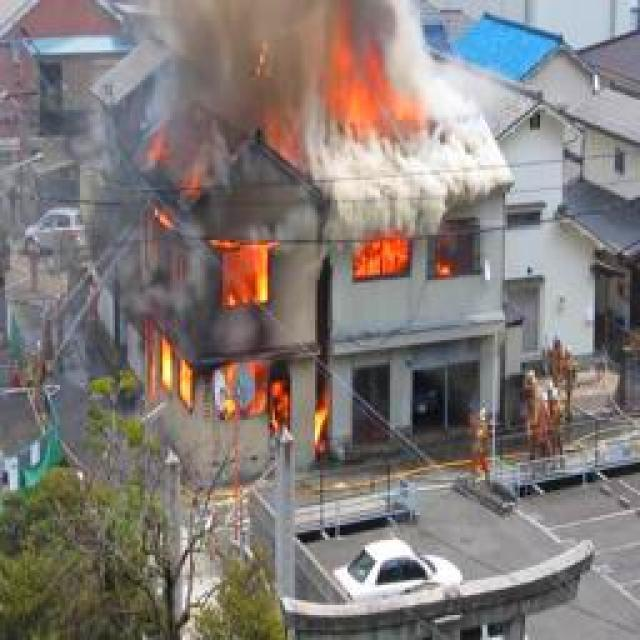Fire: (138, 156, 334, 448), (324, 21, 427, 143), (352, 237, 456, 284)
